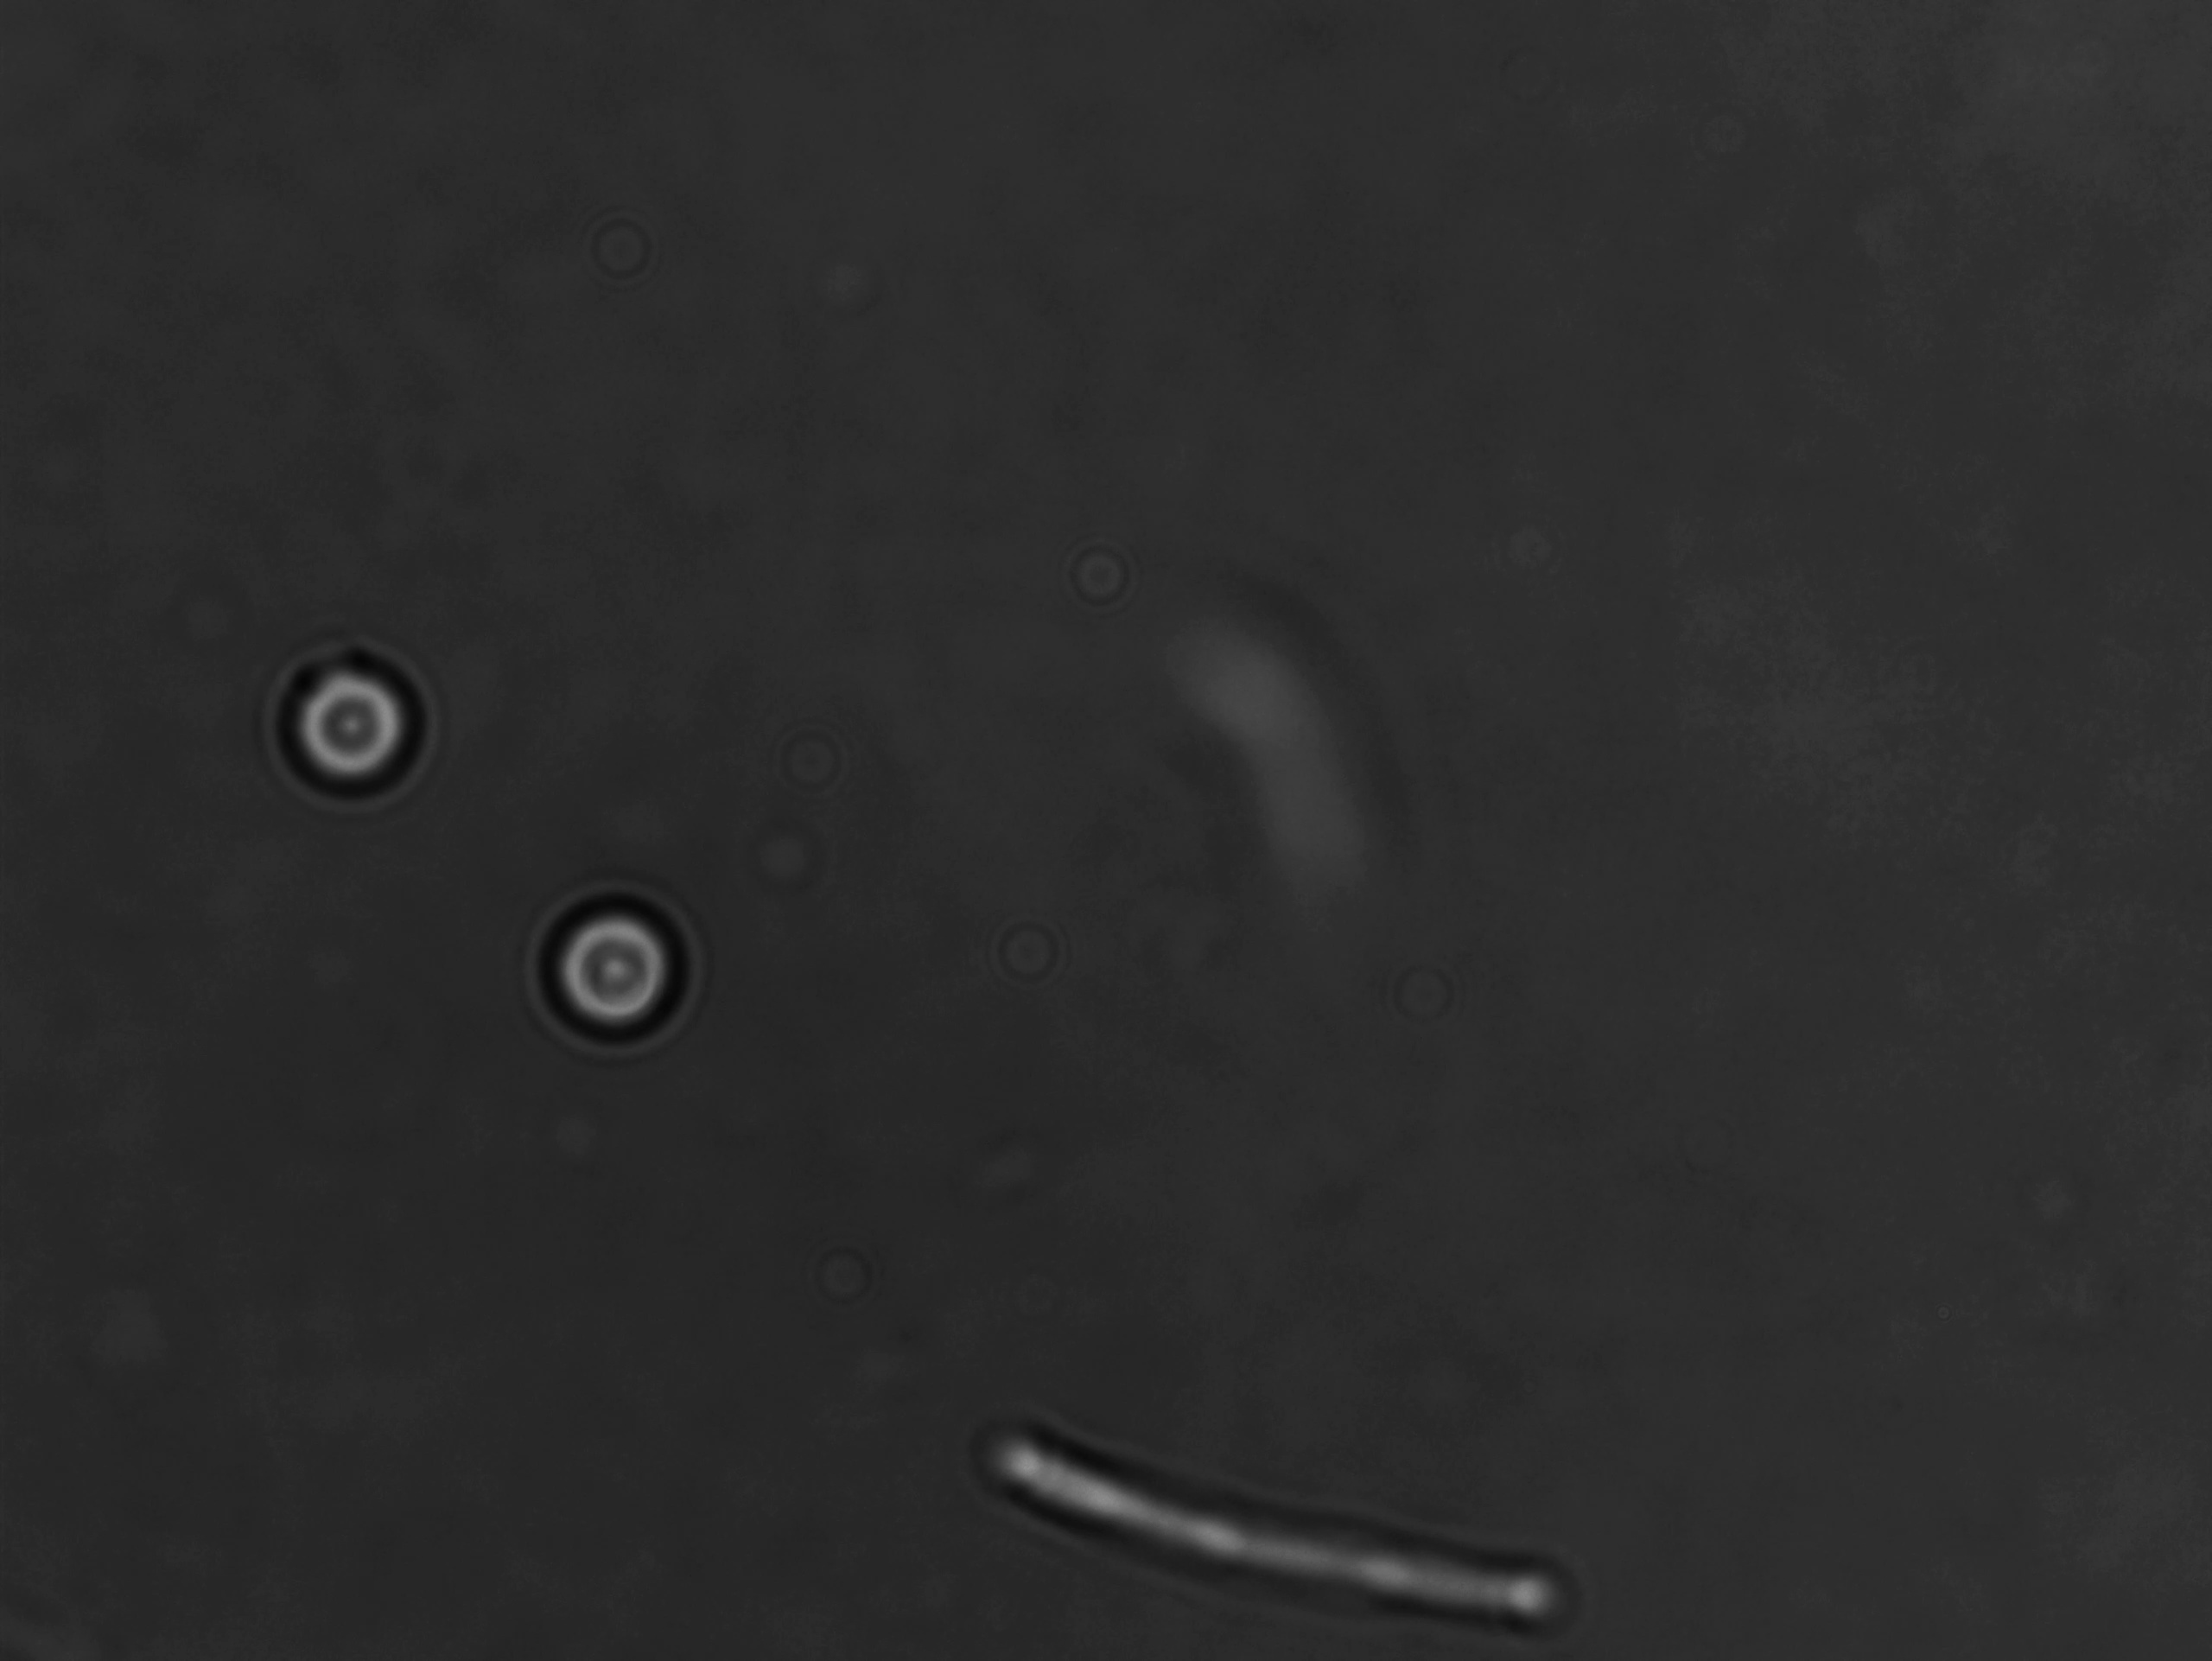depth:40: (263, 611, 445, 803), (518, 892, 705, 1064)
